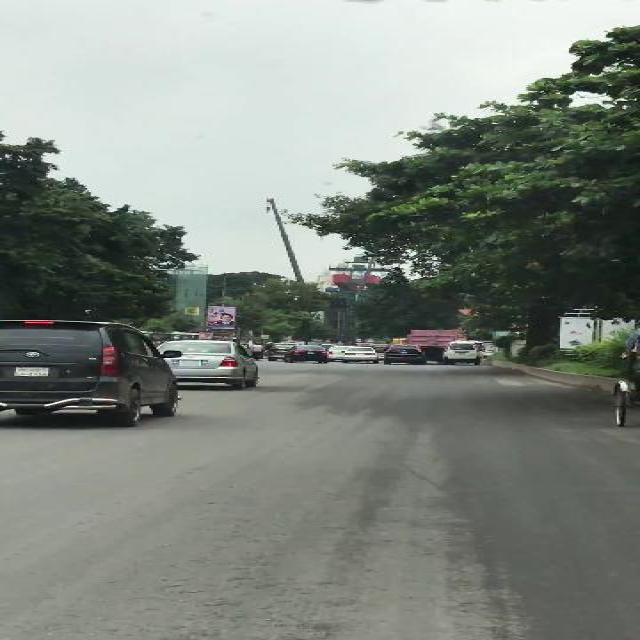car: (166, 340, 264, 388), (286, 344, 326, 364), (341, 347, 377, 363), (326, 346, 342, 360)
minivan: (442, 340, 479, 366)
suv: (0, 318, 160, 428), (383, 344, 424, 364), (268, 342, 290, 360)
truck: (403, 326, 457, 346)
